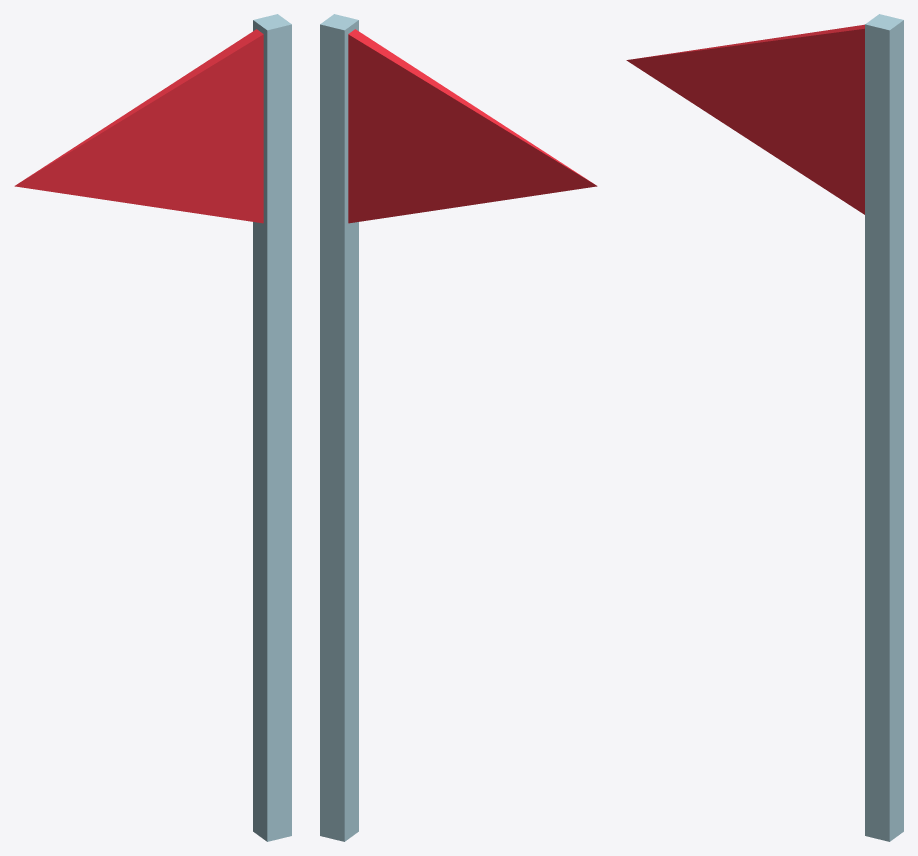
File: flag_red.fbx
3 renders of one model, left to right at view 1: azimuth 30°, elevation 25°; view 2: azimuth 150°, elevation 25°; view 3: azimuth 330°, elevation 25°, orthographic.
Visible parts, largest first — view 1: flag_red; view 2: flag_red; view 3: flag_red.
Part boxes in pixels (x1,y1,x2,y2): flag_red: [14, 14, 291, 841]; flag_red: [320, 14, 597, 841]; flag_red: [626, 14, 903, 841].
Size of the model in its own units: 3.67 by 10.5 by 0.3333.
